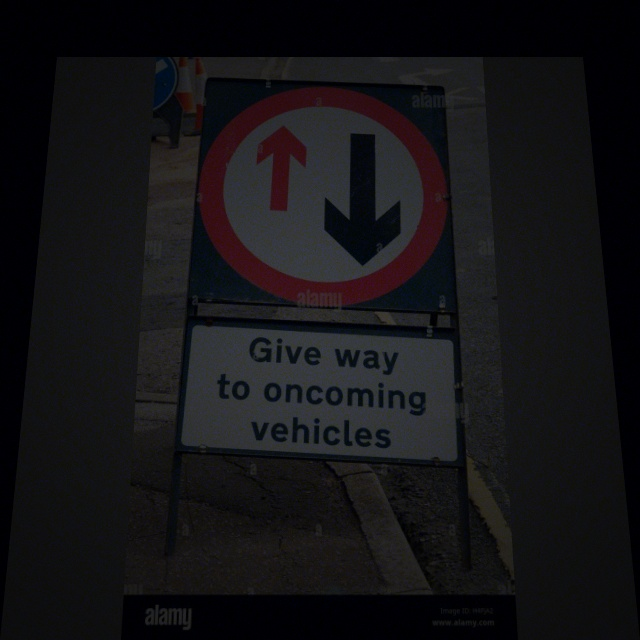Priority_for_Oncoming_Traffic: (195, 85, 456, 307)
